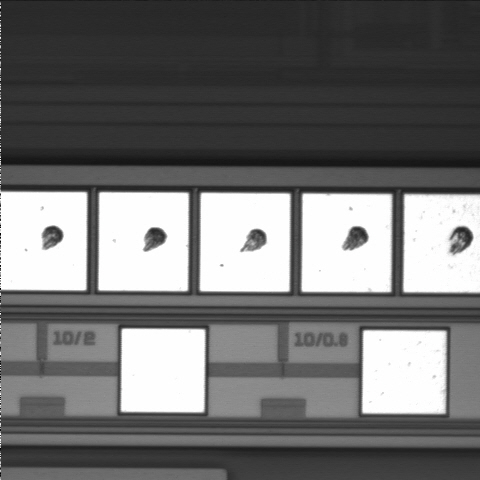pad: (99, 192, 189, 291), (200, 193, 290, 292), (302, 194, 392, 292), (121, 329, 205, 412), (362, 331, 446, 414)
